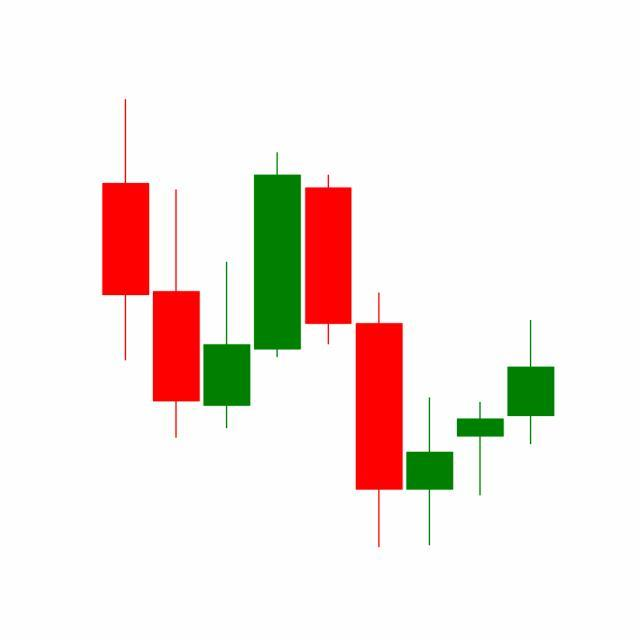Hikkake Pattern: (302, 171, 555, 549)
